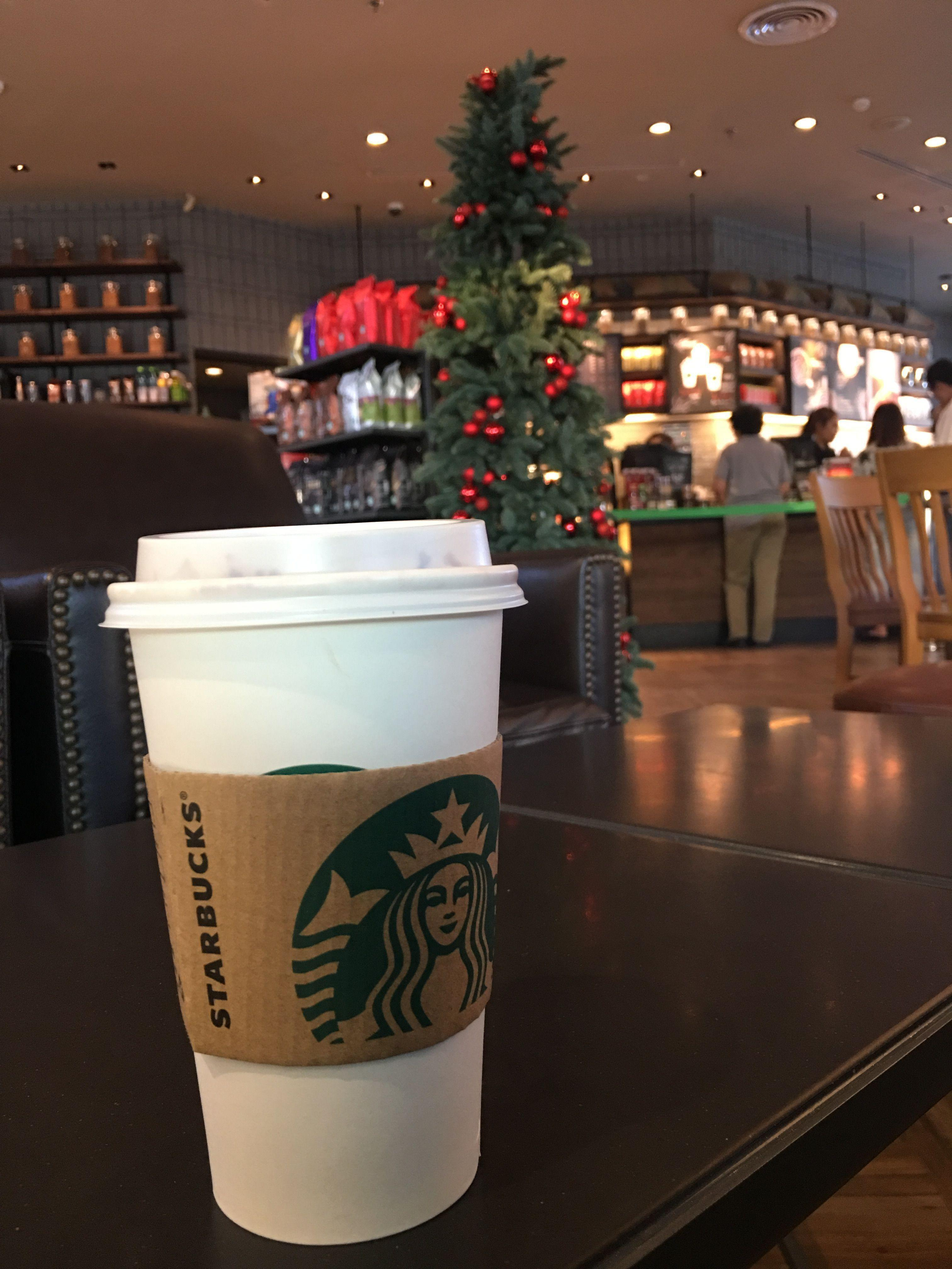cup-disposable: (95, 515, 528, 1254)
